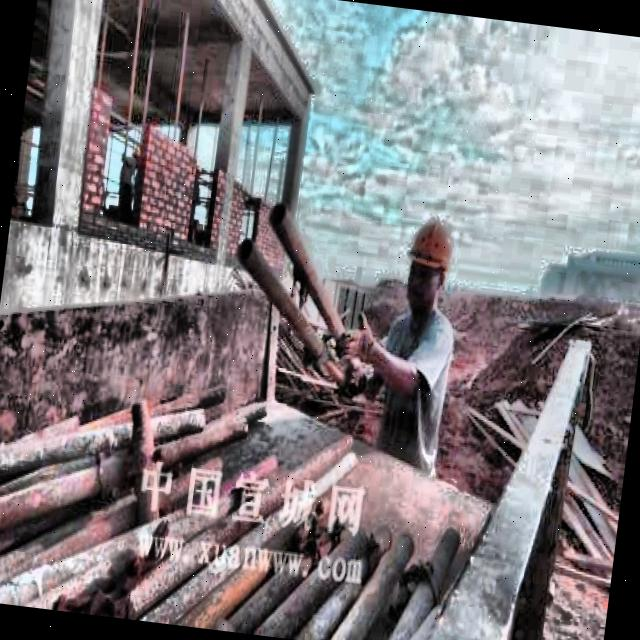helmet: (394, 205, 462, 322)
